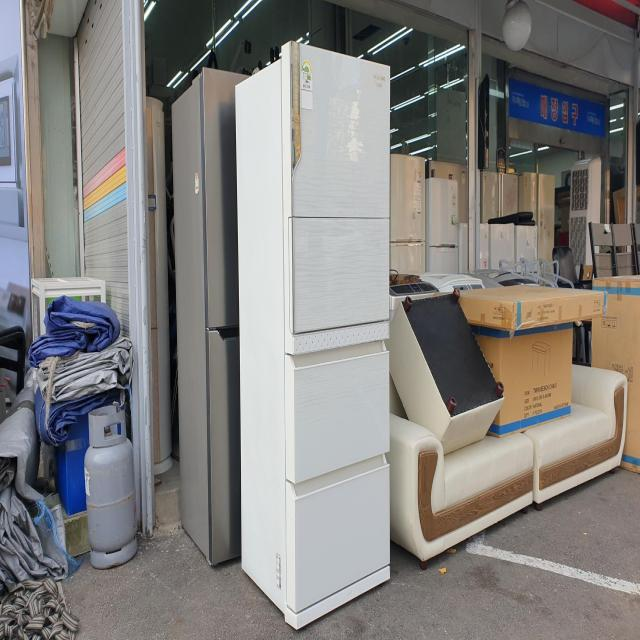refrigerator: (232, 39, 393, 635)
